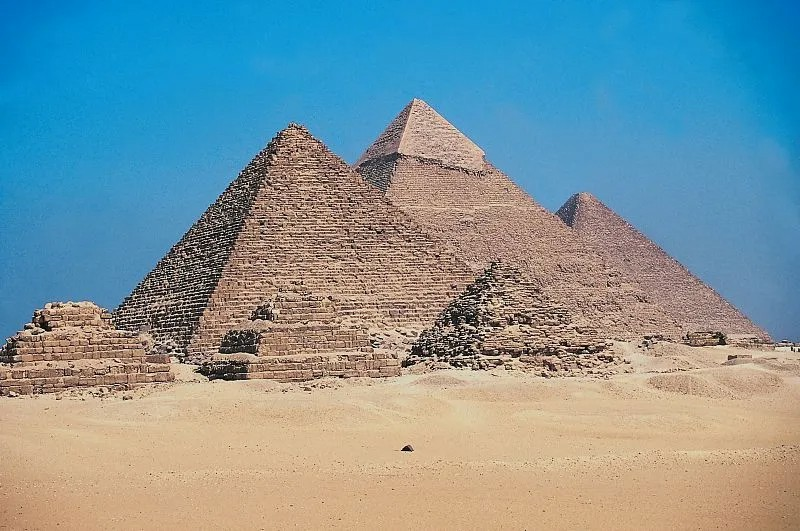Pyramid: (109, 123, 479, 362), (354, 97, 687, 347), (555, 193, 772, 349), (411, 261, 624, 374), (195, 288, 404, 379), (1, 302, 179, 388)
